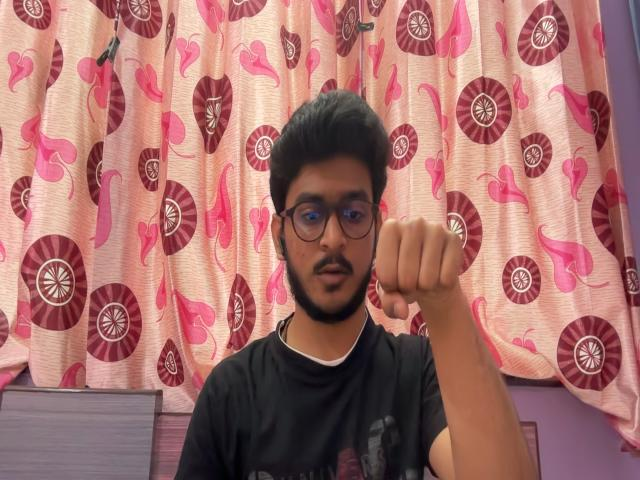Yes: (376, 210, 468, 325)
